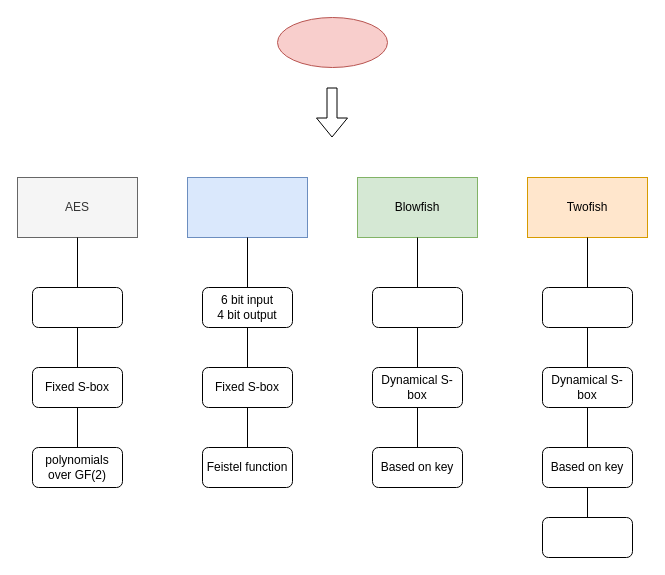
The diagram is 665 pixels wide and 575 high, and some of its shapes have lost their labels. The centre of each missing label's shape, as x and y in pixels:
"whitening" operation: point 587,537
128 bit block (32 bit sub-blocks): point 587,307
32 bit block (8 bit inputs): point 417,307
8 bit input 8 bit output: point 77,307
DES: point 247,207
Symmetric encryption algorithm: point 332,42
